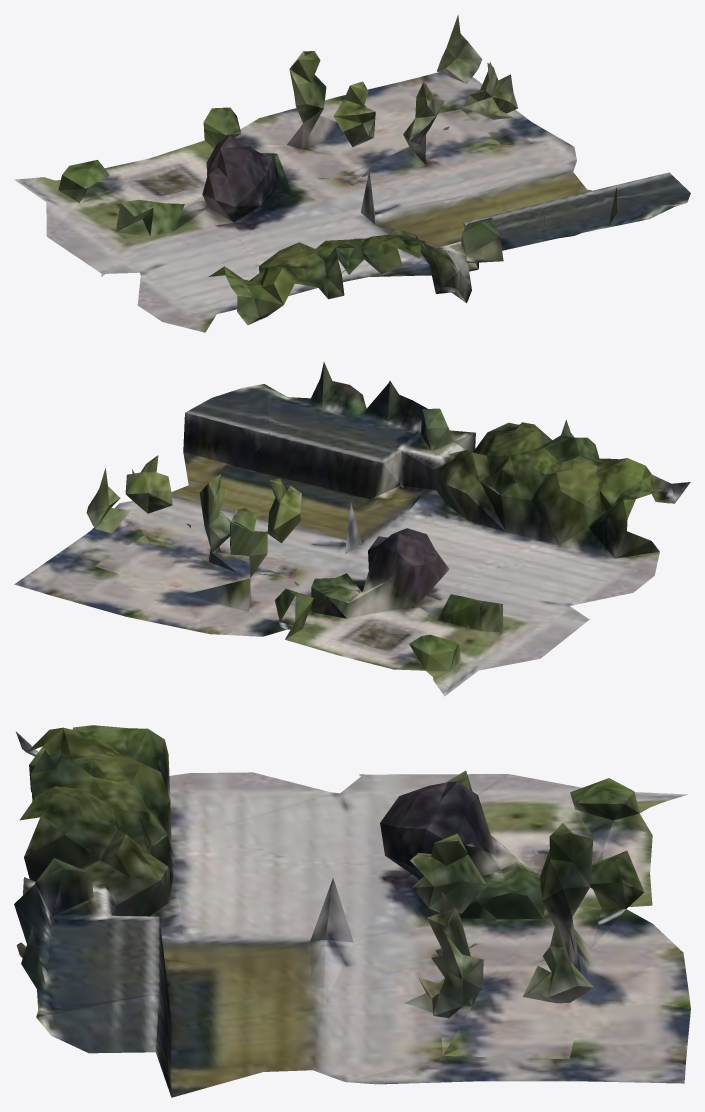
File: Tile_+002_+008_L17_00.glb
3 renders of one model, top to bottom at view 1: azimuth 30°, elevation 25°; view 2: azimuth 150°, elevation 25°; view 3: azimuth 270°, elevation 25°, orthographic. The views are drawn at different scales.
Size of the model in its own units: 60.69 by 12.36 by 52.31.
Materials: 1 (1 with a texture image).
